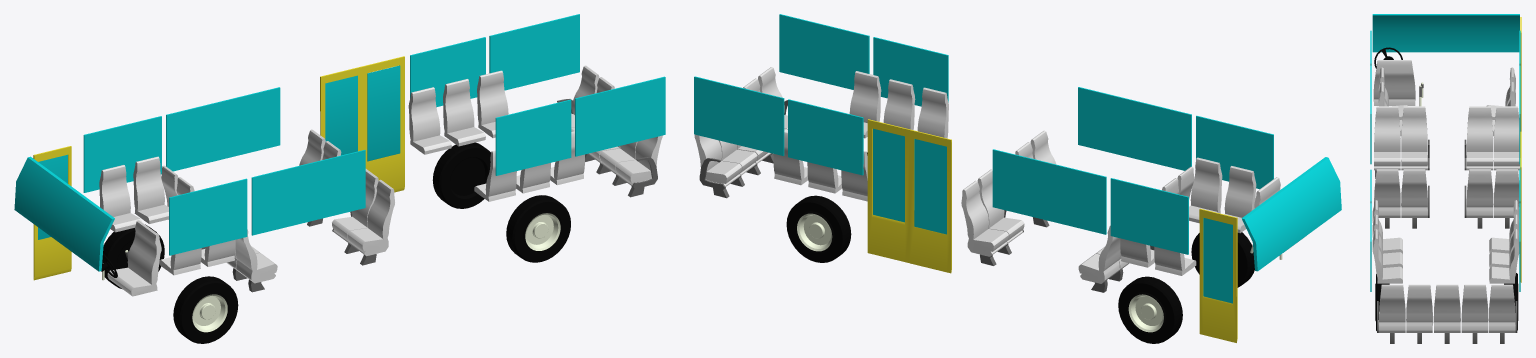
The model's file is Tex_Others.fbx.
3 views of the same model, side by side, from view 1: azimuth 30°, elevation 25°; view 2: azimuth 150°, elevation 25°; view 3: azimuth 270°, elevation 25° (orthographic). The views are drawn at different scales.
Parts seen in each view (by area): view 1: Others_Glas, armchair_all, Halo_02, Door_L, Halo_00, Door_R, Door_gL, armchair_Vodit, Halo_01; view 2: Others_Glas, armchair_all, Door_R, Door_L, Door_gL, Halo_02, Halo_01, Halo_00; view 3: armchair_all, Others_Glas, armchair_Vodit, Halo_02, Door_L, Door_gL, Rule.
Part boxes in pixels (left/top/right/bottom): Others_Glas: left=14, top=14, right=665, bottom=271; armchair_all: left=99, top=65, right=662, bottom=292; Halo_02: left=432, top=142, right=570, bottom=262; Door_L: left=362, top=56, right=404, bottom=192; Halo_00: left=173, top=276, right=238, bottom=343; Door_R: left=320, top=66, right=362, bottom=155; Door_gL: left=33, top=146, right=71, bottom=280; armchair_Vodit: left=107, top=220, right=161, bottom=296; Halo_01: left=102, top=224, right=164, bottom=288; Others_Glas: left=694, top=14, right=1341, bottom=271; armchair_all: left=694, top=67, right=1256, bottom=292; Door_R: left=909, top=129, right=951, bottom=273; Door_L: left=867, top=119, right=909, bottom=262; Door_gL: left=1199, top=208, right=1237, bottom=342; Halo_02: left=786, top=152, right=867, bottom=262; Halo_01: left=1118, top=276, right=1182, bottom=343; Halo_00: left=1191, top=232, right=1254, bottom=287; armchair_all: left=1372, top=67, right=1519, bottom=343; Others_Glas: left=1370, top=14, right=1520, bottom=291; armchair_Vodit: left=1373, top=60, right=1415, bottom=105; Halo_02: left=1375, top=273, right=1518, bottom=330; Door_L: left=1520, top=149, right=1521, bottom=282; Door_gL: left=1520, top=17, right=1521, bottom=131; Rule: left=1374, top=47, right=1402, bottom=68.
Bounding box in the file's own units: 929 × 248 × 246.
